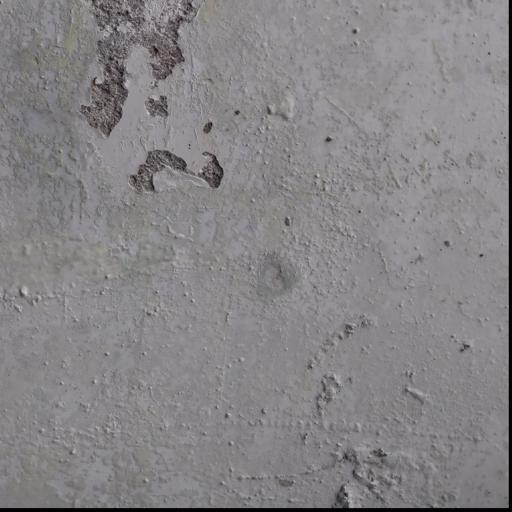peeling: (284, 315, 489, 512), (55, 0, 235, 201), (249, 242, 322, 310)
